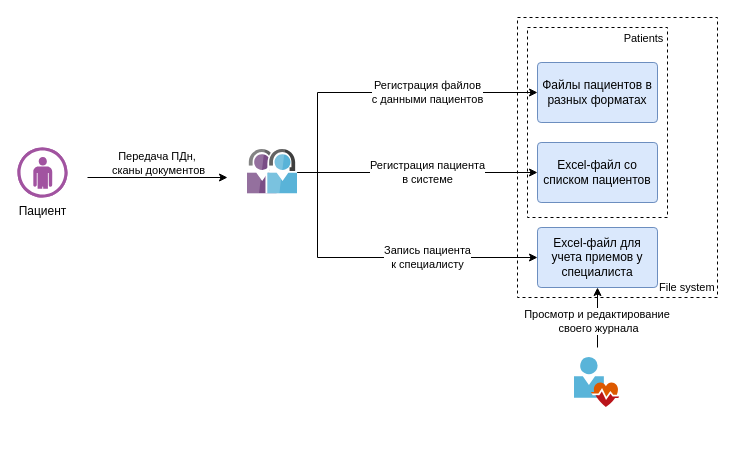
The diagram is 745 pixels wide and 461 high, and some of its shapes have lost their labels. The box of each missing label's shape, as (x1, y1, x2, y2) in pixels:
Медицинский специалист: (574, 357, 620, 407)
Ресепшен: (247, 149, 297, 195)
